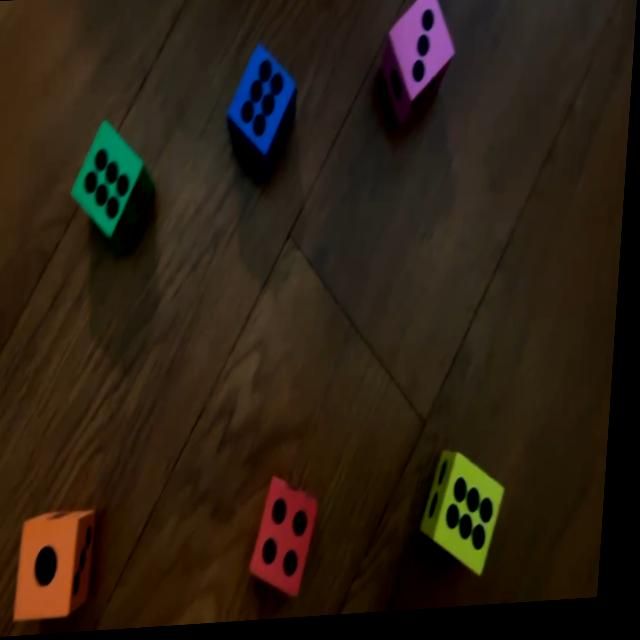blue_block: (225, 42, 300, 180)
red_block: (256, 475, 329, 600)
